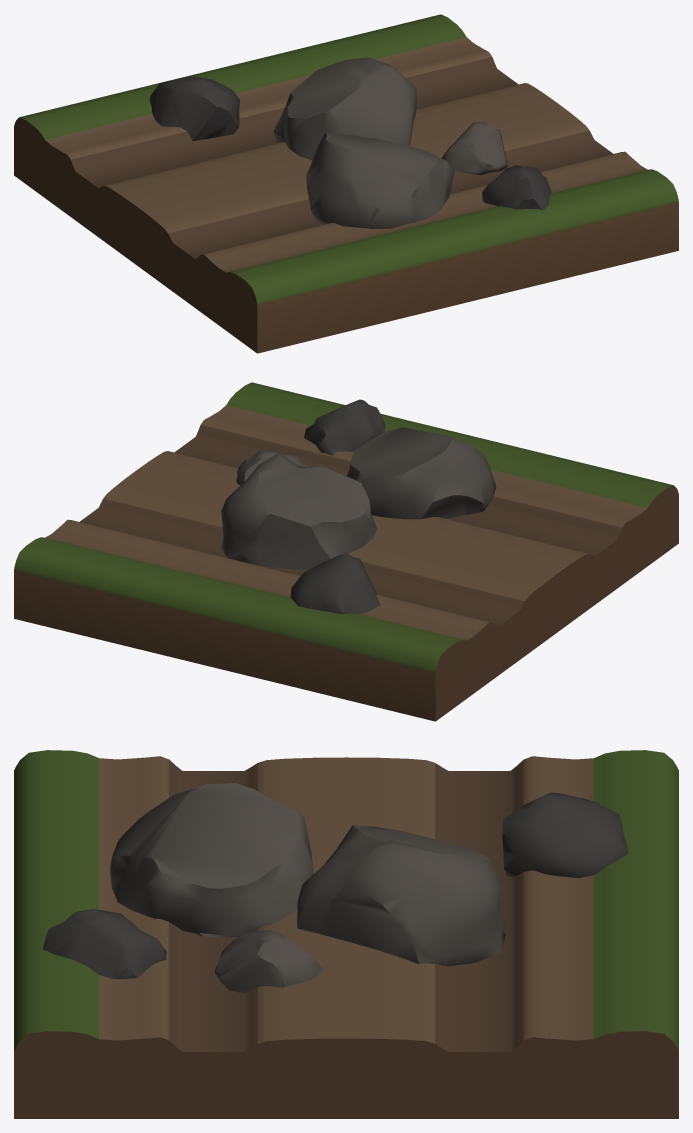
3 renders of one model, top to bottom at view 1: azimuth 30°, elevation 25°; view 2: azimuth 150°, elevation 25°; view 3: azimuth 270°, elevation 25°, orthographic. The views are drawn at different scales.
Parts seen in each view (by area): view 1: rk2o; view 2: rk2o; view 3: rk2o.
Boxes of the visible parts, left/top/right/bottom form: rk2o: left=14, top=14, right=678, bottom=353; rk2o: left=14, top=382, right=678, bottom=721; rk2o: left=14, top=750, right=678, bottom=1118.
Size of the model in its own units: 9 by 2.51 by 9.
